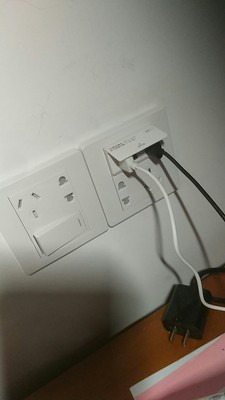switch: (30, 208, 87, 257)
